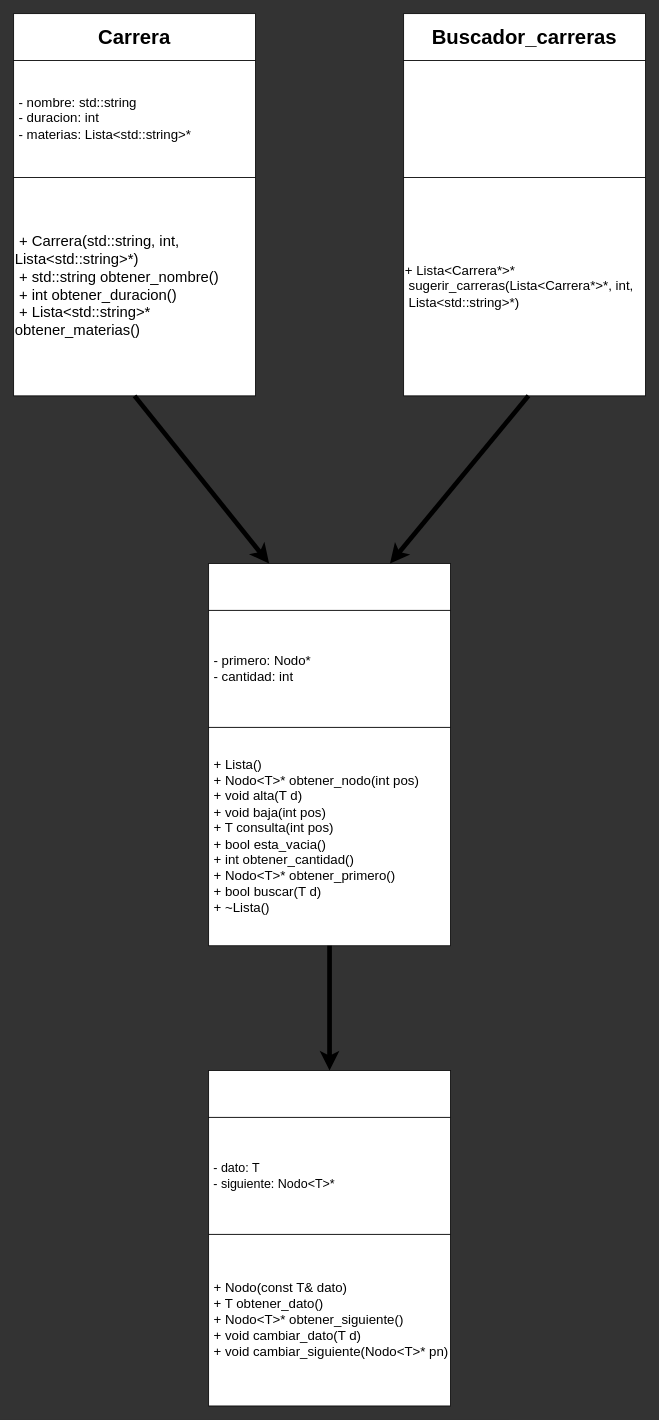
Image size: 659x1420. Some labels were removed from this diagram. Each missing label, with the centre of its shape:
Lista: point 329,586
Nodo: point 329,1093
